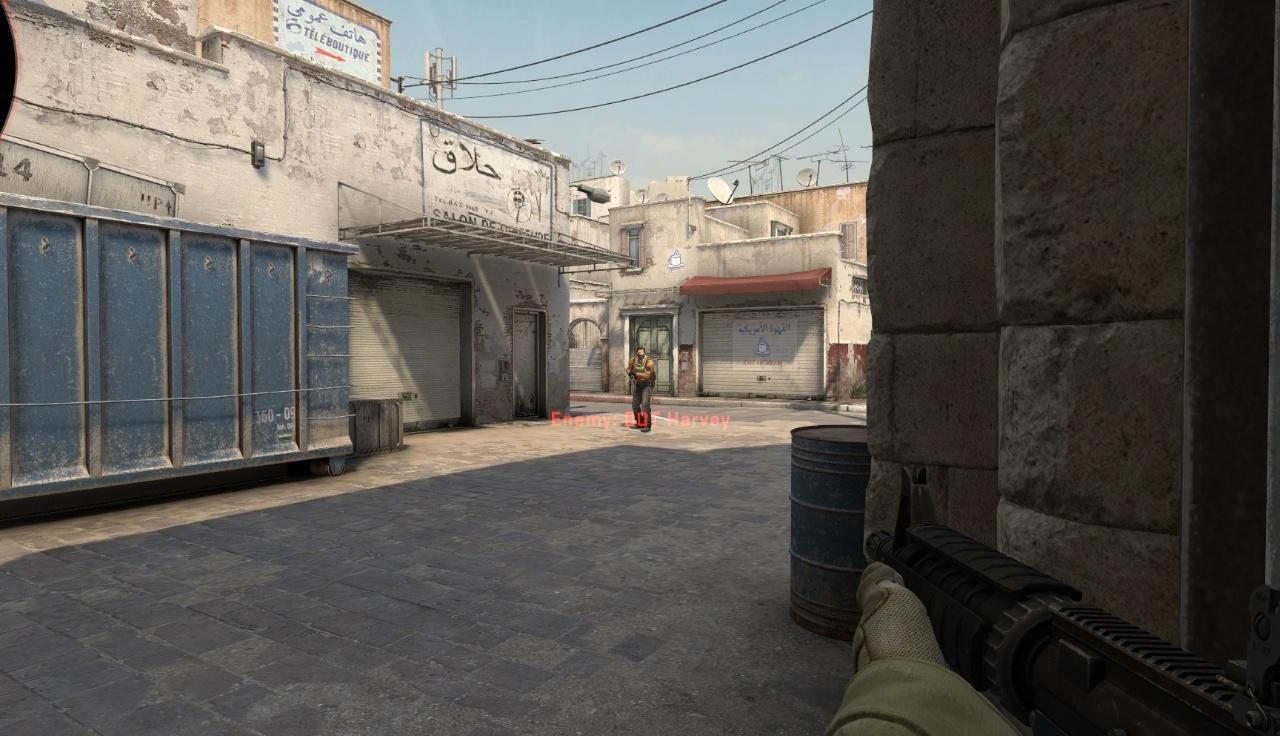rifle: (854, 465, 1280, 736)
tt: (627, 347, 655, 433)
tthead: (637, 348, 645, 359)
